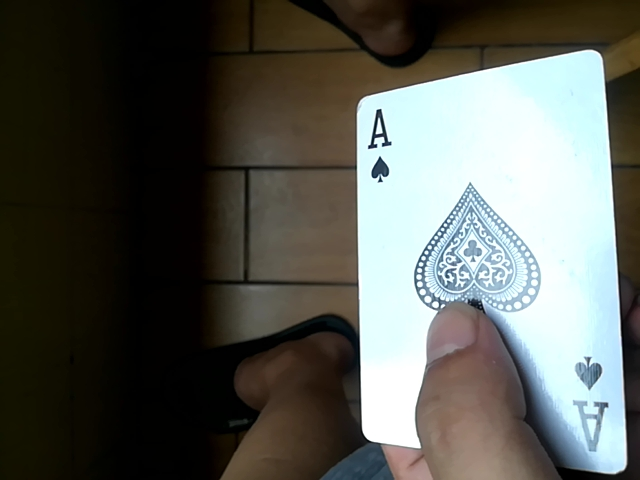ht a: (354, 45, 632, 474)
